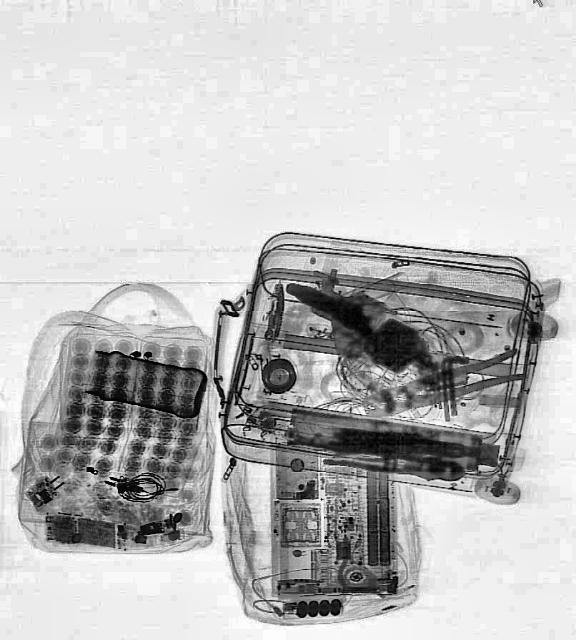Pliers: (358, 346, 526, 426)
